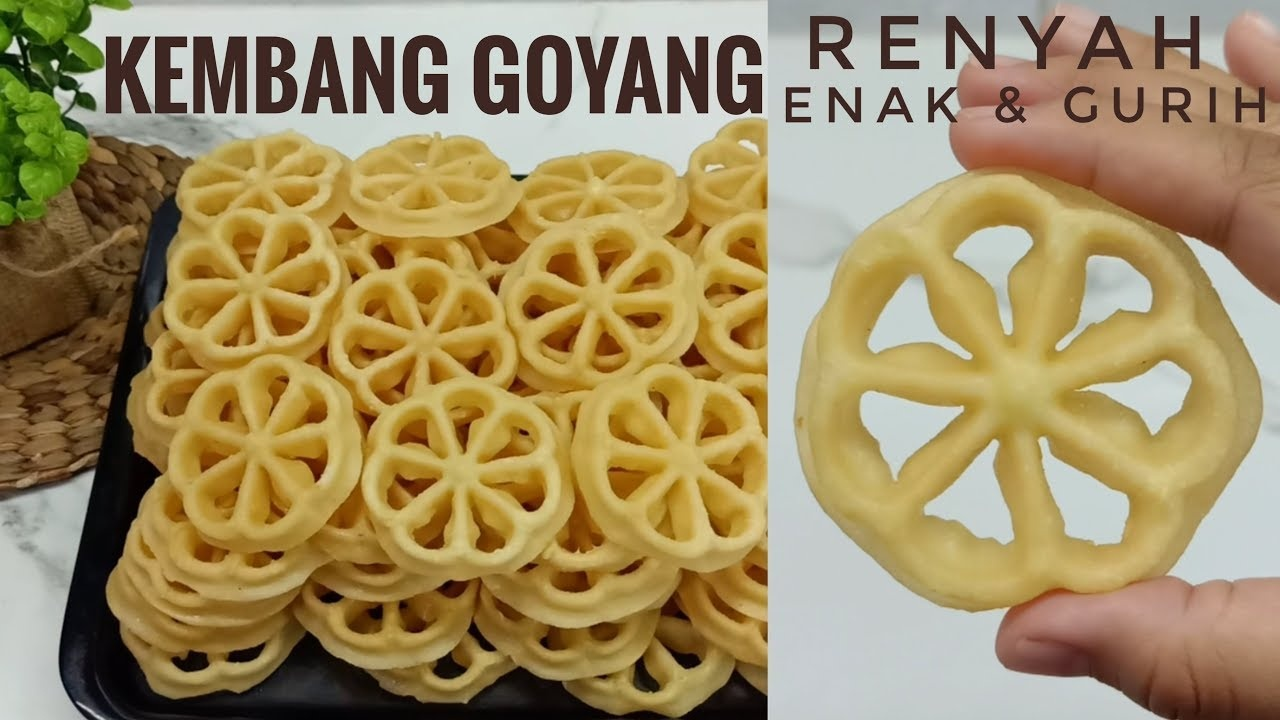kembang_goyang: (820, 154, 1253, 642), (574, 374, 767, 583), (365, 383, 558, 583), (149, 358, 335, 548)
